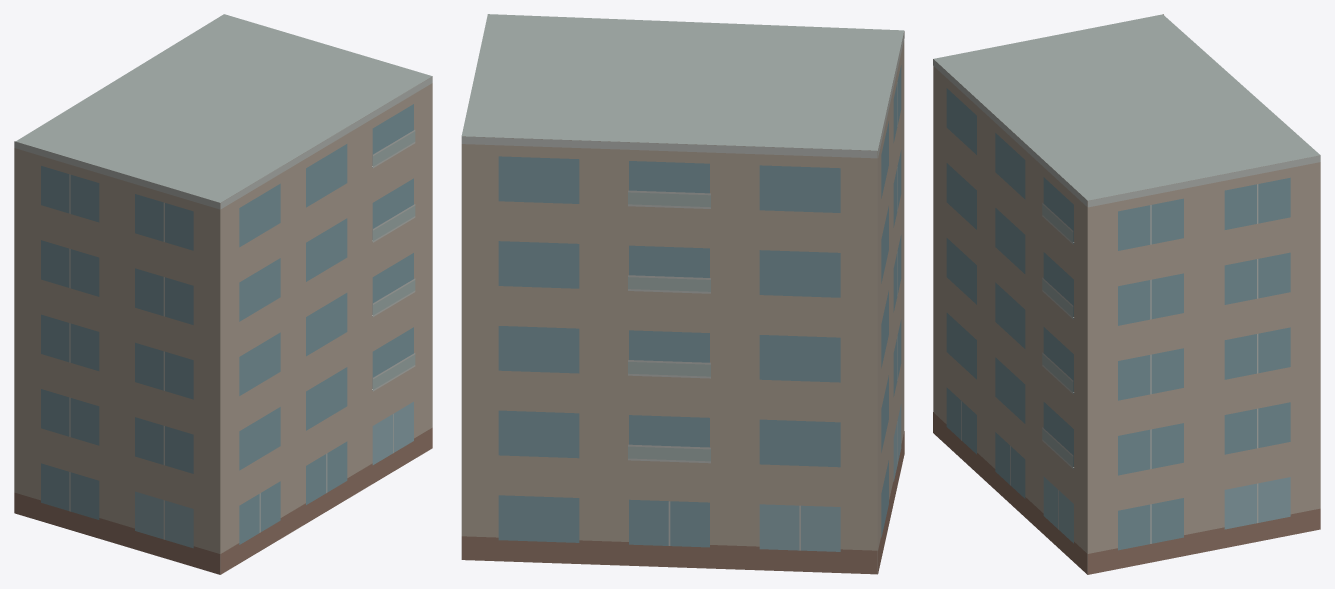
The model's file is survey-upis-32660527.glb.
3 views of the same model, side by side, from view 1: azimuth 30°, elevation 25°; view 2: azimuth 150°, elevation 25°; view 3: azimuth 270°, elevation 25° (orthographic). The views are drawn at different scales.
Visible parts, largest first — view 1: survey-upis-32660527.tmp; view 2: survey-upis-32660527.tmp; view 3: survey-upis-32660527.tmp.
Boxes of the visible parts, x1=… form: survey-upis-32660527.tmp: x1=14, y1=14, x2=432, y2=574; survey-upis-32660527.tmp: x1=461, y1=14, x2=904, y2=574; survey-upis-32660527.tmp: x1=933, y1=14, x2=1320, y2=574.
Size of the model in its own units: 14.35 by 13.4 by 12.58.
